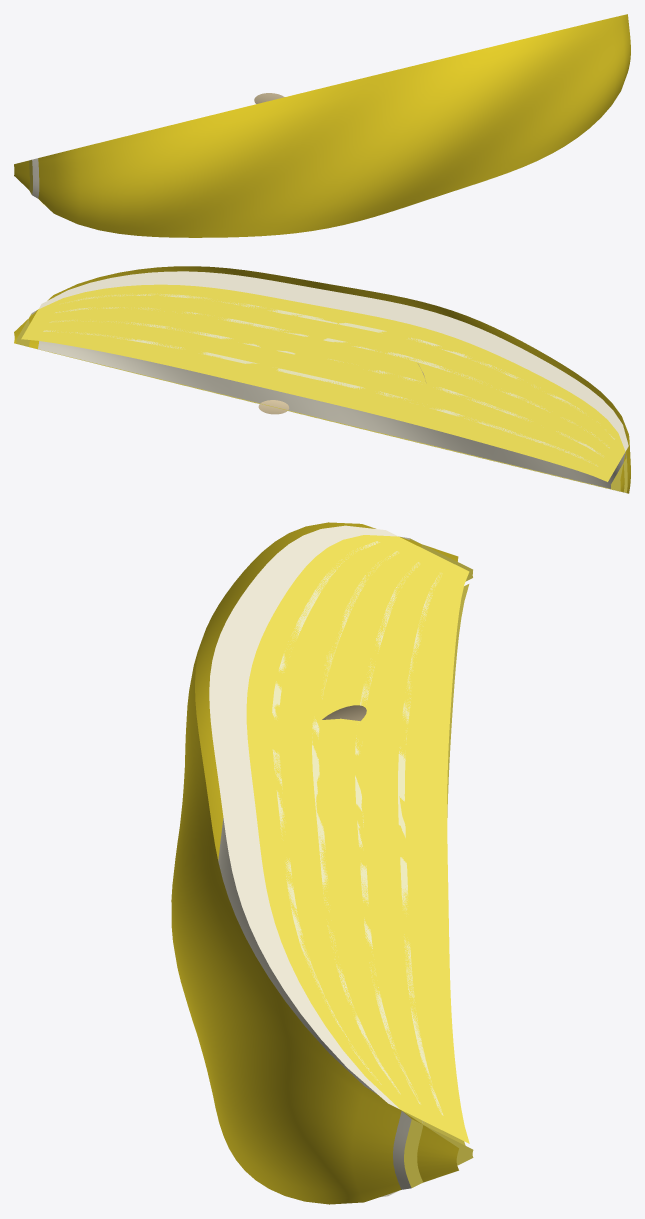
File: cut_lemon_1_8.glb
3 views of the same model, one above another, from view 1: azimuth 30°, elevation 25°; view 2: azimuth 150°, elevation 25°; view 3: azimuth 270°, elevation 25° (orthographic). The views are drawn at different scales.
Visible parts, largest first — view 1: lemon_wedge_part_00; view 2: lemon_wedge_part_02, lemon_wedge_part_03, lemon_wedge_part_01, lemon_wedge_part_00, lemon_wedge_part_06, lemon_wedge_part_09, lemon_wedge_part_08, lemon_wedge_part_07, lemon_wedge_part_04, lemon_wedge_part_17; view 3: lemon_wedge_part_02, lemon_wedge_part_00, lemon_wedge_part_03, lemon_wedge_part_01, lemon_wedge_part_06, lemon_wedge_part_09, lemon_wedge_part_08, lemon_wedge_part_07, lemon_wedge_part_15.
Part boxes in pixels (x1,y1,x2,y2): lemon_wedge_part_00: (14, 14, 630, 237); lemon_wedge_part_02: (21, 284, 625, 481); lemon_wedge_part_03: (39, 271, 628, 451); lemon_wedge_part_01: (31, 310, 626, 488); lemon_wedge_part_00: (14, 266, 630, 493); lemon_wedge_part_06: (43, 330, 597, 466); lemon_wedge_part_09: (63, 293, 614, 439); lemon_wedge_part_08: (55, 307, 609, 448); lemon_wedge_part_07: (49, 320, 603, 457); lemon_wedge_part_04: (32, 347, 621, 491); lemon_wedge_part_17: (258, 400, 289, 414); lemon_wedge_part_02: (246, 535, 469, 1143); lemon_wedge_part_00: (171, 522, 458, 1204); lemon_wedge_part_03: (209, 525, 399, 1109); lemon_wedge_part_01: (218, 536, 411, 1189); lemon_wedge_part_06: (398, 573, 443, 1115); lemon_wedge_part_09: (272, 541, 381, 1084); lemon_wedge_part_08: (312, 551, 400, 1094); lemon_wedge_part_07: (355, 562, 420, 1104); lemon_wedge_part_15: (404, 1119, 473, 1187).
Bounding box in the file's own units: 3.1 × 0.6948 × 0.6691.
